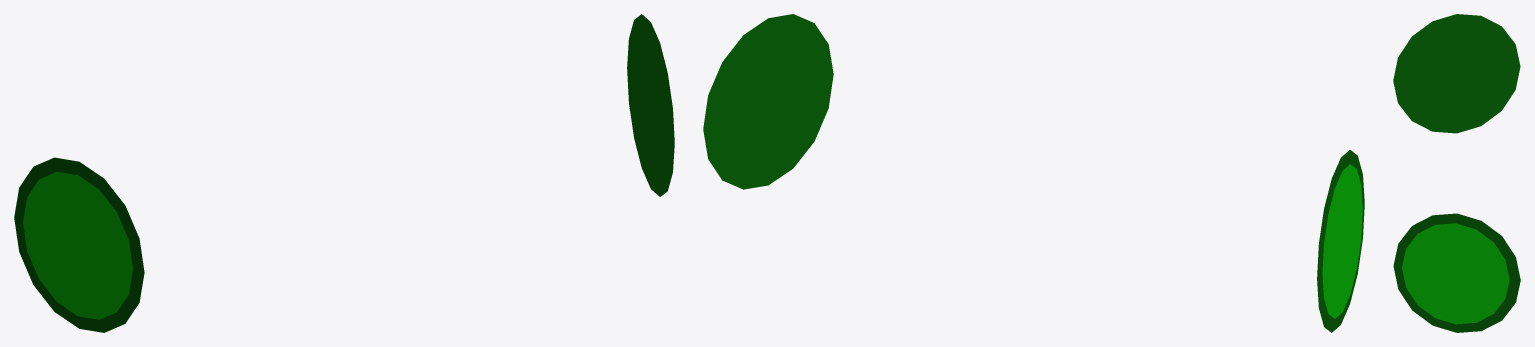
File: christmas_tree_light_green.dae
3 views of the same model, side by side, from view 1: azimuth 30°, elevation 25°; view 2: azimuth 150°, elevation 25°; view 3: azimuth 270°, elevation 25° (orthographic). The views are drawn at different scales.
Parts seen in each view (by area): view 1: christmas_tree_green_a03; view 2: christmas_tree_green_a03; view 3: christmas_tree_green_a03.
Boxes of the visible parts, x1,y1,x2,y2 form: christmas_tree_green_a03: [14, 14, 674, 332]; christmas_tree_green_a03: [703, 14, 1364, 332]; christmas_tree_green_a03: [1393, 14, 1520, 332].
Size of the model in its own units: 0.7371 by 0.1859 by 0.192.
